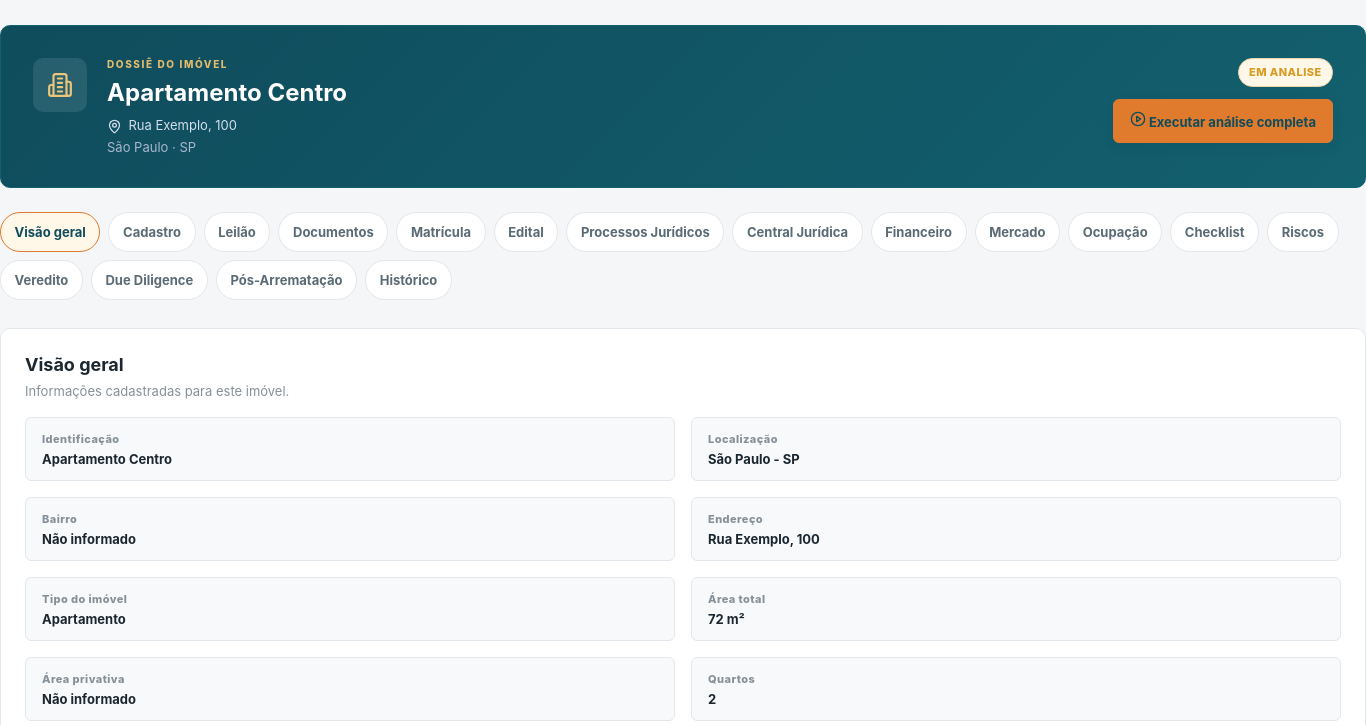
Test: PropertyDetailPage › abre a seção Mercado real dentro do imóvel
Expected: the heading "Apartamento Centro" is shown, [107, 78, 347, 107]
Click the button "Mercado".
click(1017, 232)  # box [975, 212, 1060, 252]
(page scrolled)
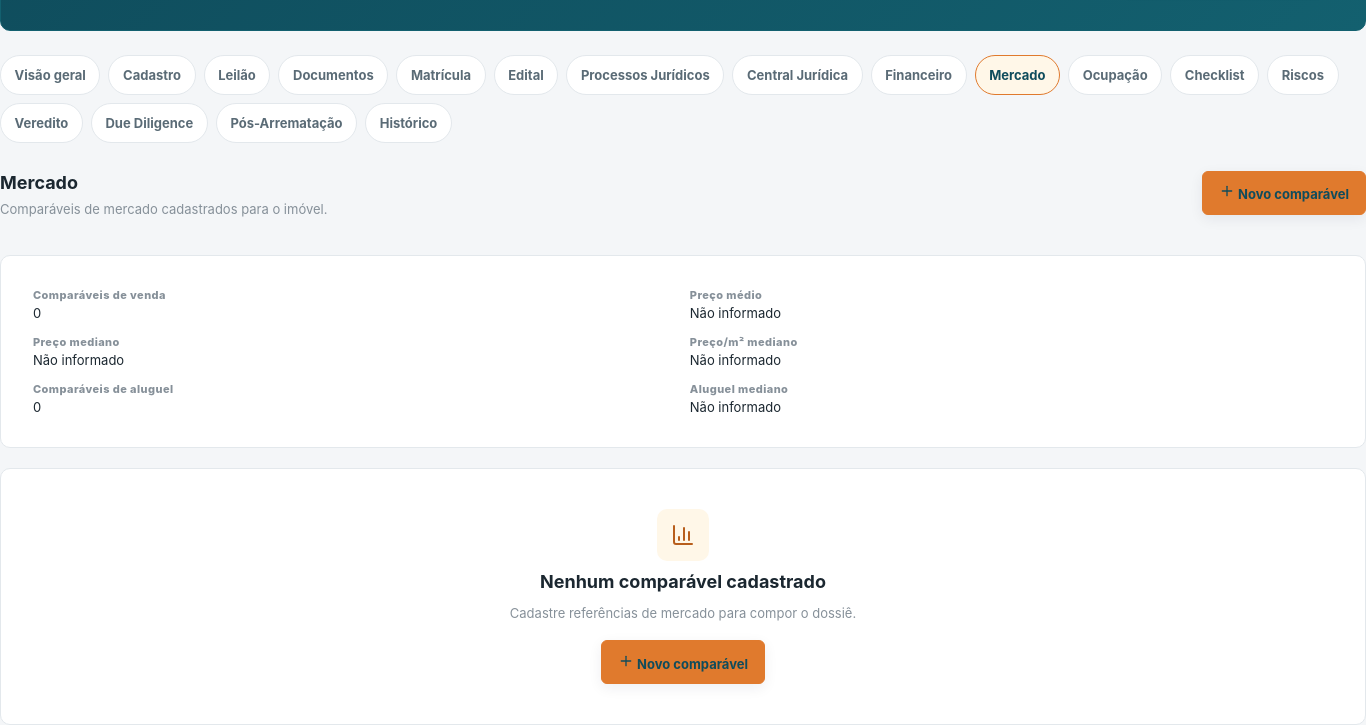
Result: the heading "Nenhum comparável cadastrado" is shown at [540, 571, 826, 592]
